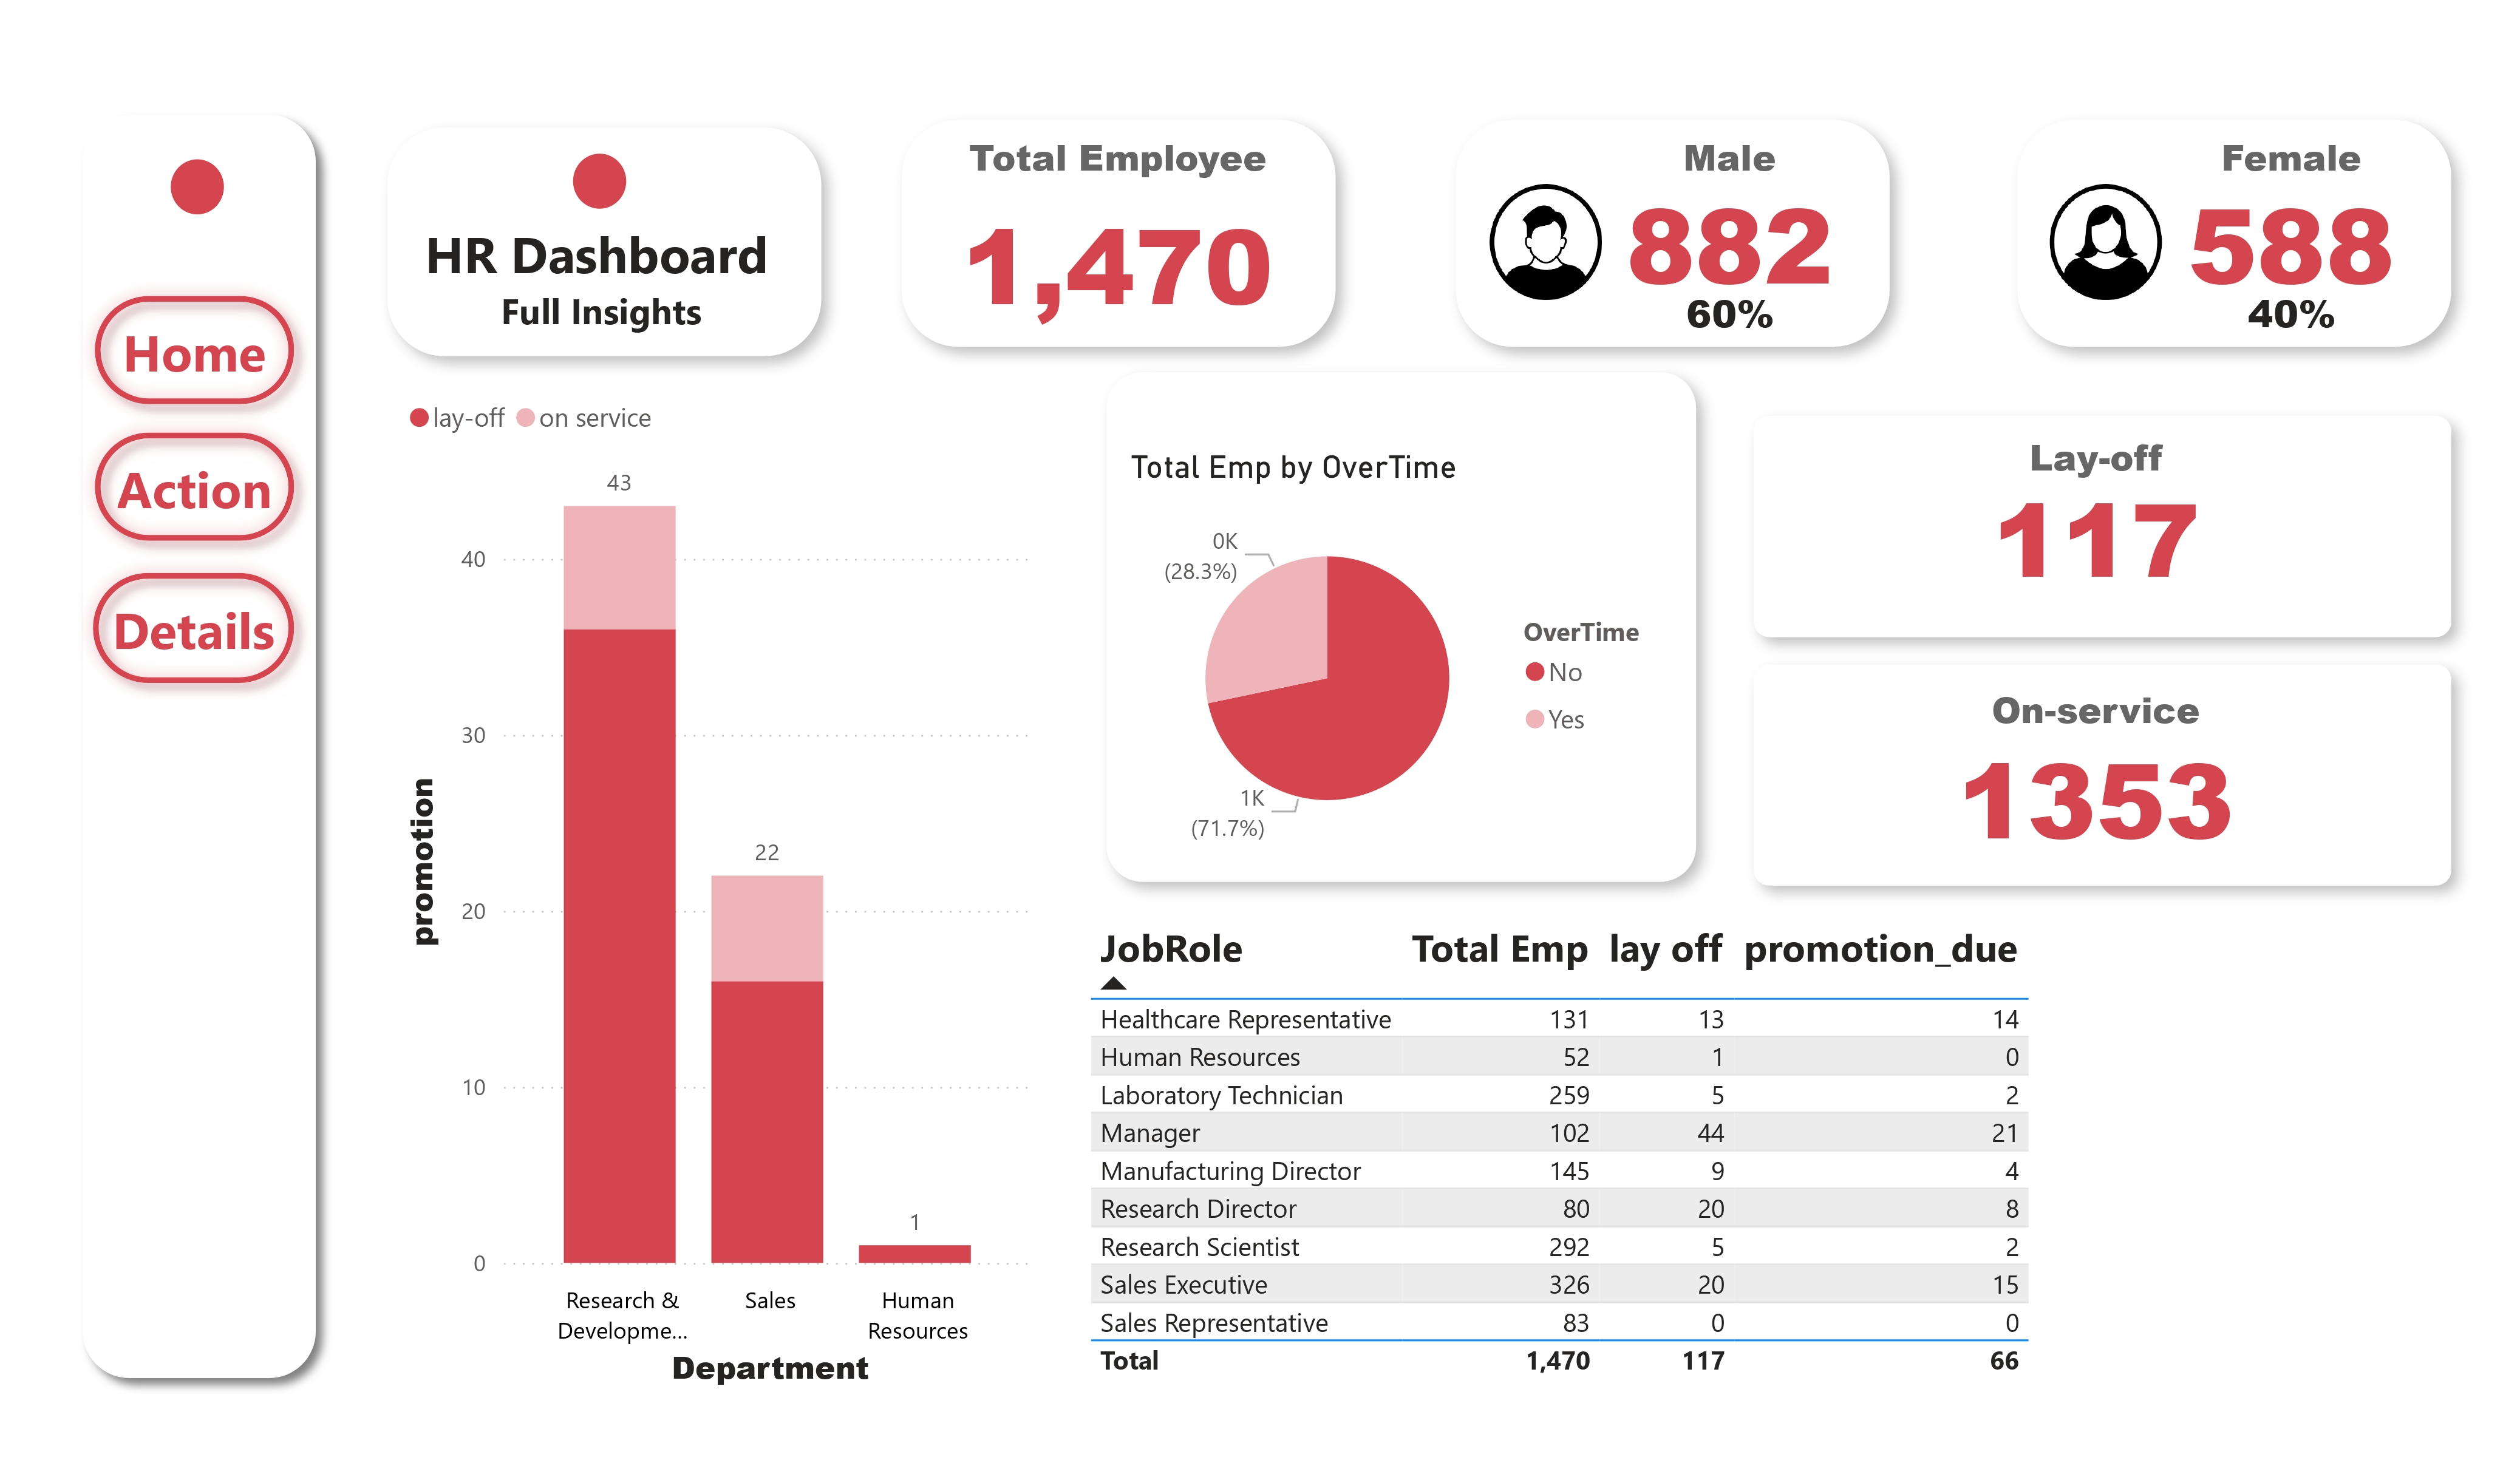

The dashboard page shown, as its layout file describes it:
{"tool":"powerbi","page":{"name":"Details","canvas":[1280,720],"ordinal":2},"visuals":[{"type":"shape","box":[1027.1,27.2,252.9,144],"z":0},{"type":"shape","box":[731.4,27.2,252.9,144],"z":1000},{"type":"shape","box":[438.7,27.2,252.9,144],"z":2000},{"type":"shape","box":[168.4,31.3,252.5,144.2],"z":3000},{"type":"shape","box":[888,182.9,392,141],"z":4000},{"type":"textbox","box":[194.5,85.6,199.4,46.7],"z":5000},{"type":"textbox","box":[235.4,121.6,128.4,35],"z":6000},{"type":"shape","box":[278.2,57.4,28.2,28.2],"z":7000},{"type":"card","title":"Total Employee","fields":{"Values":["All new measures.Total Emp"]},"box":[464.9,44.7,200.4,108.9],"z":8000},{"type":"card","title":"Male ","fields":{"Values":["All new measures.MALE"]},"box":[820.9,44.7,133.3,87.5],"z":9000},{"type":"card","title":"Female","fields":{"Values":["All new measures.FEMALE"]},"box":[1111.7,44.7,143,87.5],"z":10000},{"type":"card","fields":{"Values":["All new measures.female %"]},"box":[1153.6,128.4,60.3,28.2],"z":11000},{"type":"card","fields":{"Values":["All new measures.male %"]},"box":[857.9,128.4,60.3,28.2],"z":12000},{"type":"image","box":[753.8,68.1,72.9,71],"z":13000},{"type":"image","box":[1049.5,68.1,72,71],"z":14000},{"type":"card","title":"Lay-off","fields":{"Values":["All new measures.lay off"]},"box":[918.2,203.3,324.9,81.7],"z":15000},{"type":"columnChart","fields":{"Category":["HR Analytics Data.Department"],"Series":["HR Analytics Data.Retreanchment status"],"Y":["All new measures.promotion_due"]},"box":[186.3,175.5,341.2,537.3],"z":17000},{"type":"shape","box":[9.7,27.2,142,684.7],"z":18000},{"type":"shape","box":[546.6,160.5,335.6,292.8],"z":19000},{"type":"pieChart","fields":{"Category":["HR Analytics Data.OverTime"],"Y":["All new measures.Total Emp"]},"box":[567.1,212,295.7,223.7],"z":20000},{"type":"tableEx","fields":{"Values":["HR Analytics Data.JobRole","All new measures.Total Emp","All new measures.lay off","All new measures.promotion_due"]},"box":[544.7,455.2,722.7,256.8],"z":21000},{"type":"shape","box":[888,314.2,392,141],"z":21001},{"type":"card","title":"On-service","fields":{"Values":["All new measures.on service"]},"box":[918.2,335.6,324.9,90.5],"z":21002},{"type":"actionButton","box":[16.5,122.6,123.5,75.9],"z":21003},{"type":"shape","box":[66.1,60.3,28.2,28.2],"z":21004},{"type":"actionButton","box":[16.5,194.5,123.5,75.9],"z":21005},{"type":"actionButton","box":[16.1,268.7,123.6,76.1],"z":21006}]}

Visuals, with their boxes on the page's 1280x720 design canvas (x1, y1, x2, y2). These are canvas units, not pixel positions in the 2520x1457 screenshot, which may show the page scaled, cropped or inside an application window:
shape: region(1027, 27, 1280, 171)
shape: region(731, 27, 984, 171)
shape: region(439, 27, 692, 171)
shape: region(168, 31, 421, 176)
shape: region(888, 183, 1280, 324)
textbox: region(194, 86, 394, 132)
textbox: region(235, 122, 364, 157)
shape: region(278, 57, 306, 86)
"Total Employee" card: region(465, 45, 665, 154)
"Male " card: region(821, 45, 954, 132)
"Female" card: region(1112, 45, 1255, 132)
card - All new measures.female %: region(1154, 128, 1214, 157)
card - All new measures.male %: region(858, 128, 918, 157)
image: region(754, 68, 827, 139)
image: region(1050, 68, 1122, 139)
"Lay-off" card: region(918, 203, 1243, 285)
columnChart - HR Analytics Data.Department x HR Analytics Data.Retreanchment status: region(186, 176, 528, 713)
shape: region(10, 27, 152, 712)
shape: region(547, 160, 882, 453)
pieChart - HR Analytics Data.OverTime x All new measures.Total Emp: region(567, 212, 863, 436)
tableEx - HR Analytics Data.JobRole x All new measures.Total Emp: region(545, 455, 1267, 712)
shape: region(888, 314, 1280, 455)
"On-service" card: region(918, 336, 1243, 426)
actionButton: region(16, 123, 140, 198)
shape: region(66, 60, 94, 88)
actionButton: region(16, 194, 140, 270)
actionButton: region(16, 269, 140, 345)
